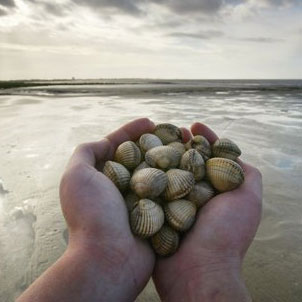cockle: (127, 198, 164, 240), (205, 155, 246, 191), (128, 166, 170, 199), (164, 197, 197, 234), (162, 167, 196, 200), (150, 224, 181, 258), (143, 143, 182, 169), (179, 147, 206, 183), (101, 159, 130, 192), (187, 179, 217, 205), (112, 139, 140, 165), (184, 133, 212, 156), (153, 122, 182, 144), (135, 132, 164, 154), (212, 138, 242, 159)
